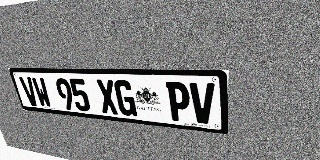5: (69, 78, 92, 112)
9: (54, 78, 77, 110)
G: (113, 80, 137, 117)
P: (166, 82, 191, 122)
V: (189, 82, 215, 125), (19, 77, 40, 106)
W: (31, 77, 53, 108)
X: (95, 79, 119, 115)
